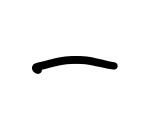minus: (31, 55, 118, 73)
